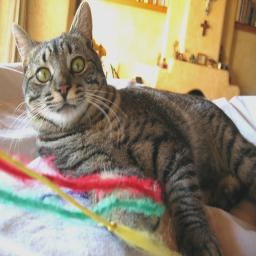catnose: (55, 83, 72, 99)
